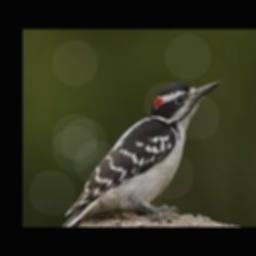Woodpecker: (60, 79, 220, 227)
